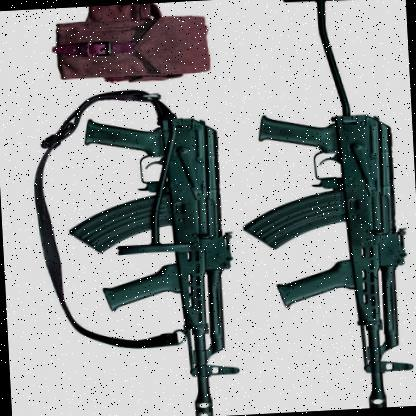rifle: (228, 21, 416, 414), (58, 84, 235, 416)
